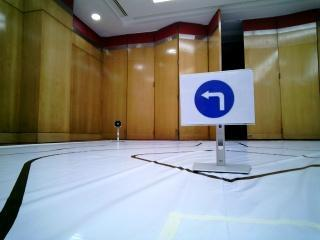left: (179, 74, 246, 122)
